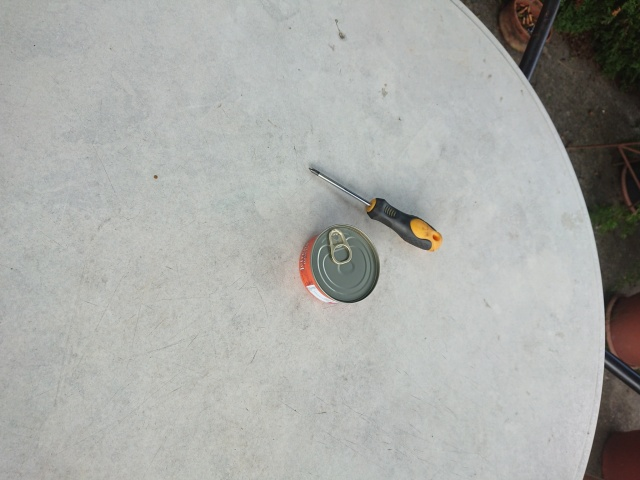Gavrilovic Pork Liver Pate 100g: (296, 222, 381, 306)
